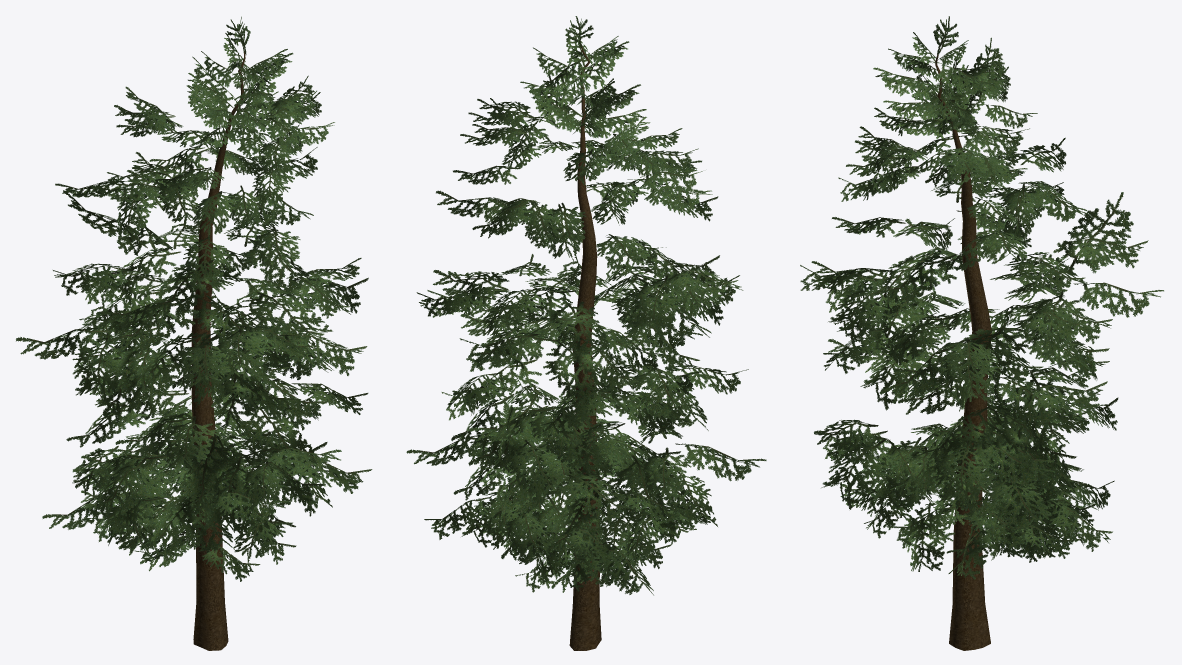
File: fir2_l2.glb
3 views of the same model, side by side, from view 1: azimuth 30°, elevation 25°; view 2: azimuth 150°, elevation 25°; view 3: azimuth 270°, elevation 25° (orthographic). The views are drawn at different scales.
Parts seen in each view (by area): view 1: Christmas tree_2_LOD2_Brunches_Mat_0, Christmas tree_2_LOD2_Bark_Mat_0; view 2: Christmas tree_2_LOD2_Brunches_Mat_0, Christmas tree_2_LOD2_Bark_Mat_0; view 3: Christmas tree_2_LOD2_Brunches_Mat_0, Christmas tree_2_LOD2_Bark_Mat_0.
Boxes of the visible parts, box(x1,y1,x2,y2) form: Christmas tree_2_LOD2_Brunches_Mat_0: box(16, 16, 372, 581); Christmas tree_2_LOD2_Bark_Mat_0: box(191, 51, 245, 650); Christmas tree_2_LOD2_Brunches_Mat_0: box(406, 16, 766, 595); Christmas tree_2_LOD2_Bark_Mat_0: box(569, 45, 601, 650); Christmas tree_2_LOD2_Brunches_Mat_0: box(800, 16, 1163, 579); Christmas tree_2_LOD2_Bark_Mat_0: box(935, 54, 991, 650).
Size of the model in its own units: 11.27 by 21.06 by 11.11.
Materials: 2 (2 with a texture image).
